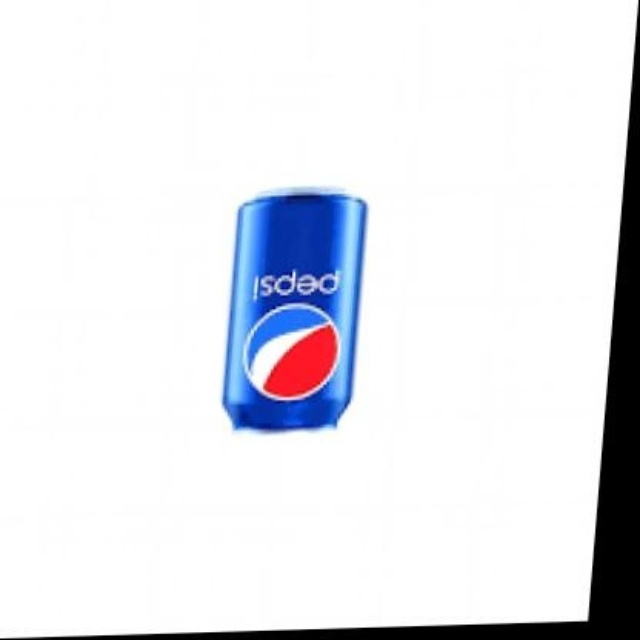trash: (223, 189, 365, 428)
